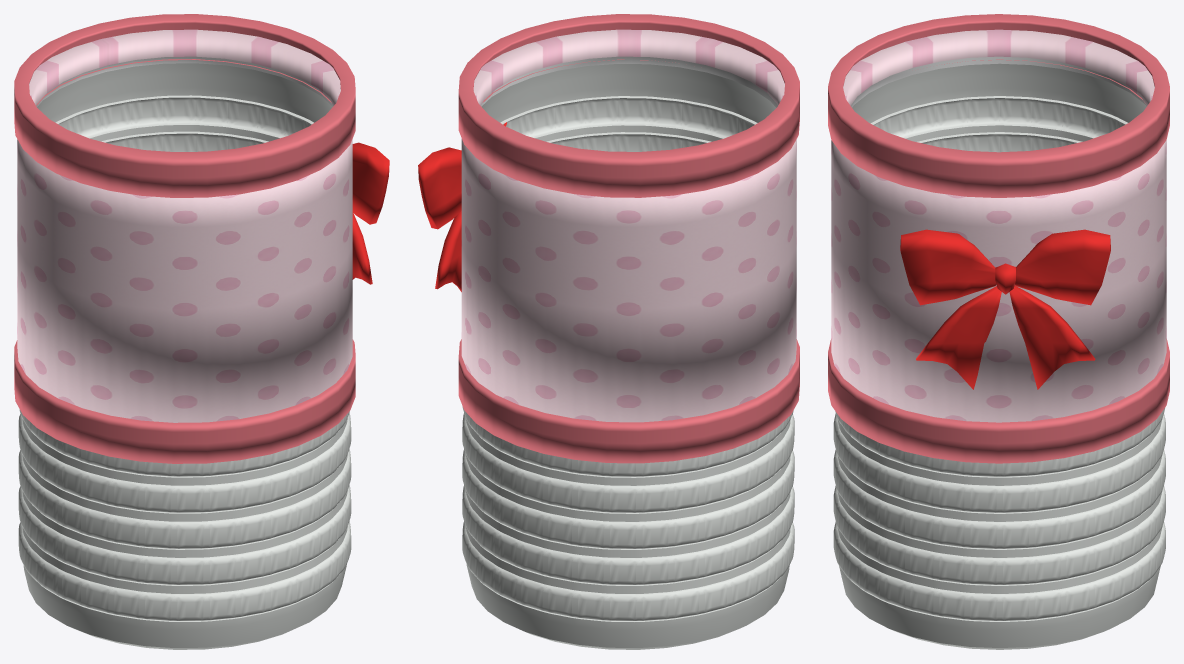
The model's file is bottle-5.glb.
3 renders of one model, left to right at view 1: azimuth 30°, elevation 25°; view 2: azimuth 150°, elevation 25°; view 3: azimuth 270°, elevation 25°, orthographic.
Visible parts, largest first — view 1: Cylinder.008; view 2: Cylinder.008; view 3: Cylinder.008.
Part boxes in pixels (x1,y1,x2,y2): Cylinder.008: (14, 14, 389, 649); Cylinder.008: (418, 14, 799, 649); Cylinder.008: (828, 14, 1169, 649).
Size of the model in its own units: 0.3754 by 0.619 by 0.3651.
5 materials, 2 textured.
